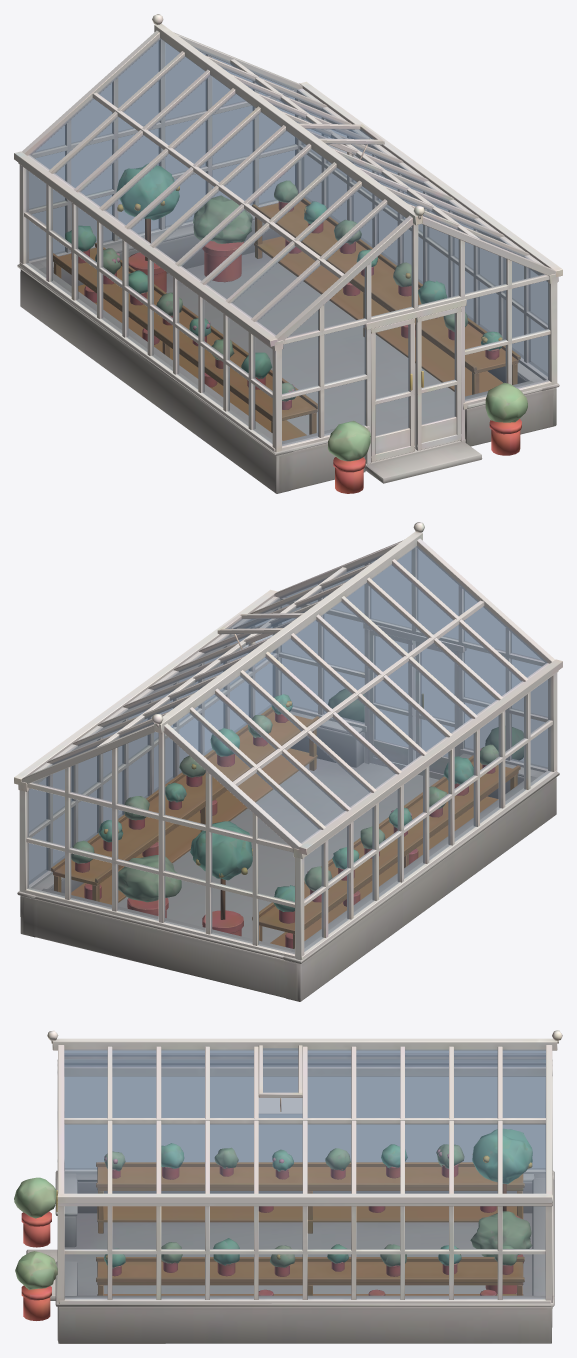
Rendered from greenhouse.glb.
The picture shows the model from 3 angles, top to bottom: view 1: azimuth 30°, elevation 25°; view 2: azimuth 150°, elevation 25°; view 3: azimuth 270°, elevation 25°; orthographic projection. The views are drawn at different scales.
Visible parts, largest first — view 1: greenhouse_trim, greenhouse_glass, greenhouse_body; view 2: greenhouse_trim, greenhouse_glass, greenhouse_body; view 3: greenhouse_glass, greenhouse_trim, greenhouse_body.
Boxes of the visible parts, x1,y1,x2,y2 form: greenhouse_trim: (14, 14, 562, 493); greenhouse_glass: (26, 38, 549, 445); greenhouse_body: (17, 212, 559, 493); greenhouse_trim: (14, 522, 562, 960); greenhouse_glass: (27, 546, 550, 953); greenhouse_body: (17, 711, 559, 1001); greenhouse_glass: (64, 1048, 545, 1298); greenhouse_trim: (14, 1030, 562, 1320); greenhouse_body: (26, 1170, 554, 1343).
Bounding box in the file's own units: 4.68 × 3.92 × 7.88.
Materials: 3 (2 with a texture image).
